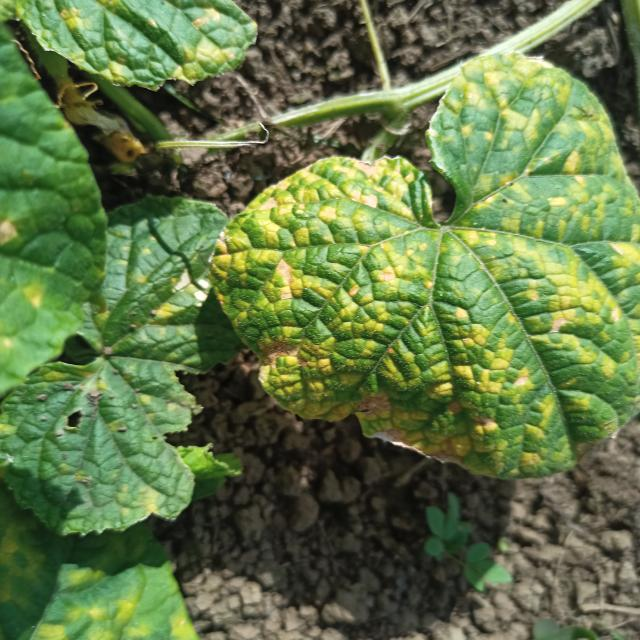disease_cucumber: (230, 63, 638, 480)
